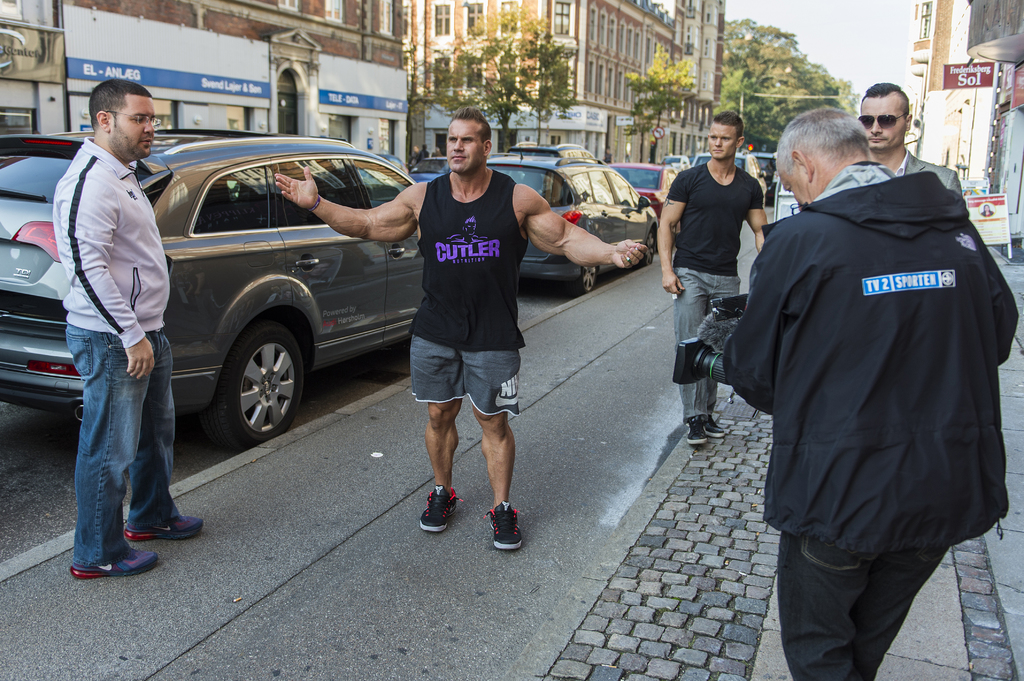Car: (7, 104, 382, 483), (408, 122, 779, 294), (358, 153, 409, 198)
